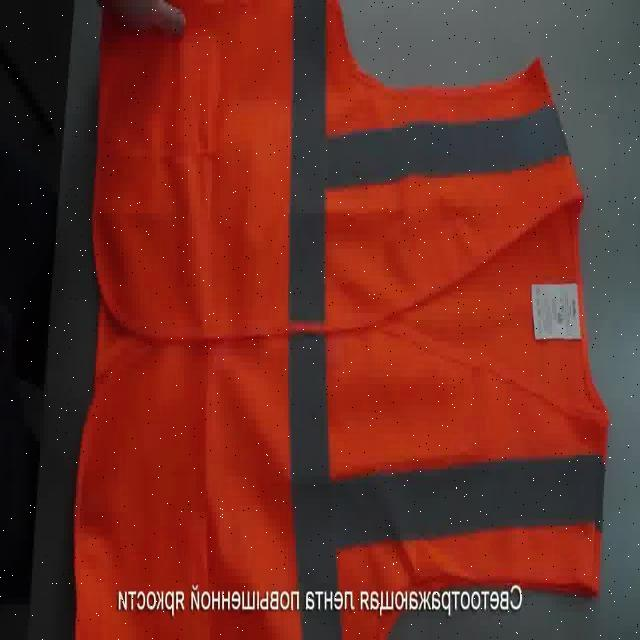Vest: (92, 18, 595, 630)
